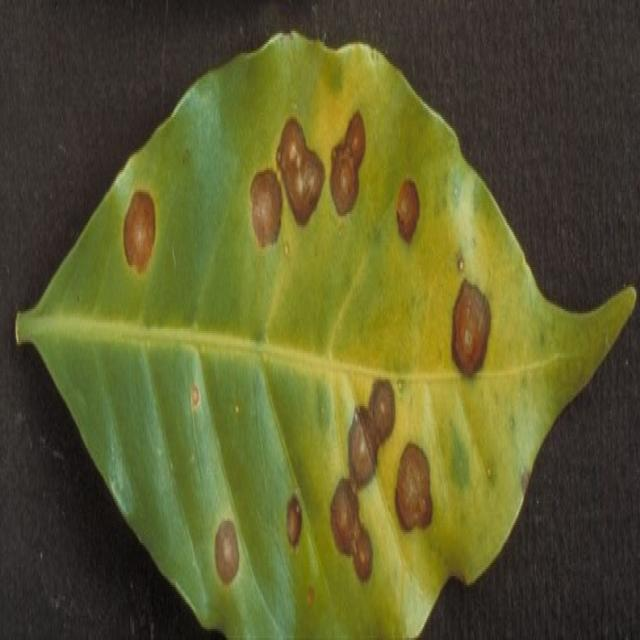Enfermedad-Mancha-de-hierro: (15, 31, 638, 640)
